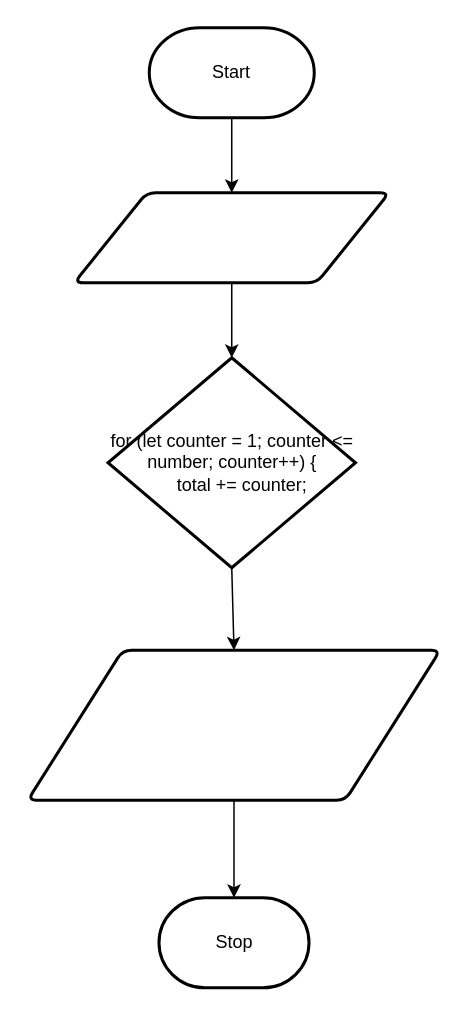
This 467x1014 diagram has some shape labels left out. Each missing label, with the centre of its shape:
The answer is "__ ": (x=233, y=724)
User enters positive integer: (x=231, y=237)
